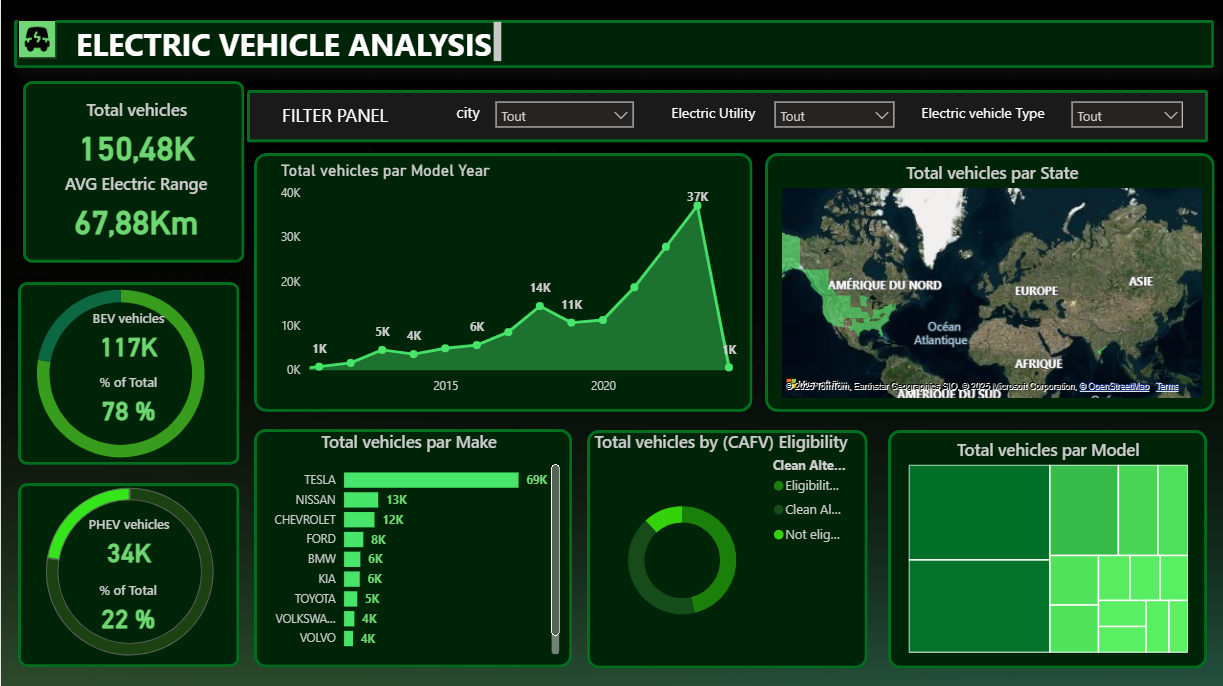

Layout of this report page (visuals, bound fields, positions):
{"tool":"powerbi","page":{"name":"Page 1","canvas":[1280,720],"ordinal":0},"visuals":[{"type":"shape","box":[13.9,23.7,1252.2,50.1],"z":0},{"type":"textbox","box":[73.5,21.3,453.9,52.1],"z":1000},{"type":"shape","box":[22.5,87.7,231.1,189.6],"z":2000},{"type":"card","title":"Total vehicles","fields":{"Values":["Electric_Vehicle_Population_Data.Total vehicles"]},"box":[47.3,105.7,189.2,76.5],"z":3000},{"type":"card","title":"AVG Electric Range","fields":{"Values":["Electric_Vehicle_Population_Data.AVG Range"]},"box":[39,182.3,204.5,76.5],"z":4000},{"type":"shape","box":[17.8,297.5,231.1,190.8],"z":5000},{"type":"shape","box":[17.8,507.3,231.1,192],"z":6000},{"type":"donutChart","fields":{"Category":["Electric_Vehicle_Population_Data.Electric Vehicle Type"],"Y":["Electric_Vehicle_Population_Data.Total vehicles"]},"box":[4.7,278.5,239.4,228.7],"z":7000},{"type":"card","title":"BEV vehicles","fields":{"Values":["Electric_Vehicle_Population_Data.BEV Vehicles"]},"box":[73.5,327.1,119.7,58.1],"z":8000},{"type":"card","title":"% of Total","fields":{"Values":["Electric_Vehicle_Population_Data.% of BEV"]},"box":[73.5,393.5,119.7,58.1],"z":9000},{"type":"donutChart","fields":{"Category":["Electric_Vehicle_Population_Data.Electric Vehicle Type"],"Y":["Electric_Vehicle_Population_Data.Total vehicles"]},"box":[14.2,484.7,239.4,228.7],"z":10000},{"type":"card","title":"PHEV vehicles","fields":{"Values":["Electric_Vehicle_Population_Data.PHEV Vehicles"]},"box":[64,541.6,139.9,58.1],"z":11000},{"type":"card","title":"% of Total","fields":{"Values":["Electric_Vehicle_Population_Data.% of PHEV"]},"box":[62.8,610.4,139.9,58.1],"z":12000},{"type":"shape","box":[257.2,97.2,1002.7,54.5],"z":13000},{"type":"shape","box":[264.3,162.4,520.3,270.2],"z":14000},{"type":"areaChart","fields":{"Category":["Electric_Vehicle_Population_Data.Model Year"],"Y":["Electric_Vehicle_Population_Data.Total vehicles"]},"box":[286.8,170.7,490.7,252.4],"z":15000},{"type":"shape","box":[797.6,162.4,469.3,270.2],"z":16000},{"type":"filledMap","fields":{"Category":["Electric_Vehicle_Population_Data.State"]},"box":[809.5,170.7,449.2,252.4],"z":17000},{"type":"shape","box":[264.3,450.4,331.9,248.9],"z":18000},{"type":"barChart","fields":{"Category":["Electric_Vehicle_Population_Data.Make"],"Y":["Electric_Vehicle_Population_Data.Total vehicles"]},"box":[264.3,451.6,323.6,239.4],"z":19000},{"type":"shape","box":[611.6,451.6,292.7,248.9],"z":20000},{"type":"donutChart","title":"Total vehicles by (CAFV) Eligibility","fields":{"Category":["Electric_Vehicle_Population_Data.Clean Alternative Fuel Vehicle (CAFV) Eligibility"],"Y":["Electric_Vehicle_Population_Data.Total vehicles"]},"box":[611.6,451.6,279.7,248.9],"z":21000},{"type":"shape","box":[925.6,451.6,333,248.9],"z":21001},{"type":"treemap","fields":{"Group":["Electric_Vehicle_Population_Data.Model"],"Values":["Electric_Vehicle_Population_Data.Total vehicles"]},"box":[942.2,459.9,301,228.7],"z":21002},{"type":"textbox","box":[286.8,105.5,123.3,35.6],"z":21003},{"type":"slicer","fields":{"Values":["Electric_Vehicle_Population_Data.City"]},"box":[506.1,99.6,163.6,47.4],"z":21004},{"type":"textbox","box":[463.4,104.3,48.6,36.7],"z":21005},{"type":"textbox","box":[688.6,105.5,109,30.8],"z":21006},{"type":"slicer","fields":{"Values":["Electric_Vehicle_Population_Data.Electric Utility"]},"box":[797.6,99.6,144.6,47.4],"z":21007},{"type":"slicer","fields":{"Values":["Electric_Vehicle_Population_Data.Electric Vehicle Type"]},"box":[1107,99.6,136.3,47.4],"z":21008},{"type":"textbox","box":[942.2,105.5,164.7,30.8],"z":21009},{"type":"image","box":[17.8,23.7,40,40],"z":21010}]}

Visuals, with their boxes in screenshot pixels (x1, y1, x2, y2), scaled from the page's 1280x720 canvas onto the 1223x686 screenshot:
shape: (x1=13, y1=23, x2=1210, y2=70)
textbox: (x1=70, y1=20, x2=504, y2=70)
shape: (x1=21, y1=84, x2=242, y2=264)
"Total vehicles" card: (x1=45, y1=101, x2=226, y2=174)
"AVG Electric Range" card: (x1=37, y1=174, x2=233, y2=247)
shape: (x1=17, y1=283, x2=238, y2=465)
shape: (x1=17, y1=483, x2=238, y2=666)
donutChart - Electric_Vehicle_Population_Data.Electric Vehicle Type x Electric_Vehicle_Population_Data.Total vehicles: (x1=4, y1=265, x2=233, y2=483)
"BEV vehicles" card: (x1=70, y1=312, x2=185, y2=367)
"% of Total" card: (x1=70, y1=375, x2=185, y2=430)
donutChart - Electric_Vehicle_Population_Data.Electric Vehicle Type x Electric_Vehicle_Population_Data.Total vehicles: (x1=14, y1=462, x2=242, y2=680)
"PHEV vehicles" card: (x1=61, y1=516, x2=195, y2=571)
"% of Total" card: (x1=60, y1=582, x2=194, y2=637)
shape: (x1=246, y1=93, x2=1204, y2=145)
shape: (x1=253, y1=155, x2=750, y2=412)
areaChart - Electric_Vehicle_Population_Data.Model Year x Electric_Vehicle_Population_Data.Total vehicles: (x1=274, y1=163, x2=743, y2=403)
shape: (x1=762, y1=155, x2=1210, y2=412)
filledMap - Electric_Vehicle_Population_Data.State: (x1=773, y1=163, x2=1203, y2=403)
shape: (x1=253, y1=429, x2=570, y2=666)
barChart - Electric_Vehicle_Population_Data.Make x Electric_Vehicle_Population_Data.Total vehicles: (x1=253, y1=430, x2=562, y2=658)
shape: (x1=584, y1=430, x2=864, y2=667)
"Total vehicles by (CAFV) Eligibility" donutChart: (x1=584, y1=430, x2=852, y2=667)
shape: (x1=884, y1=430, x2=1203, y2=667)
treemap - Electric_Vehicle_Population_Data.Model x Electric_Vehicle_Population_Data.Total vehicles: (x1=900, y1=438, x2=1188, y2=656)
textbox: (x1=274, y1=101, x2=392, y2=134)
slicer - Electric_Vehicle_Population_Data.City: (x1=484, y1=95, x2=640, y2=140)
textbox: (x1=443, y1=99, x2=489, y2=134)
textbox: (x1=658, y1=101, x2=762, y2=130)
slicer - Electric_Vehicle_Population_Data.Electric Utility: (x1=762, y1=95, x2=900, y2=140)
slicer - Electric_Vehicle_Population_Data.Electric Vehicle Type: (x1=1058, y1=95, x2=1188, y2=140)
textbox: (x1=900, y1=101, x2=1058, y2=130)
image: (x1=17, y1=23, x2=55, y2=61)
